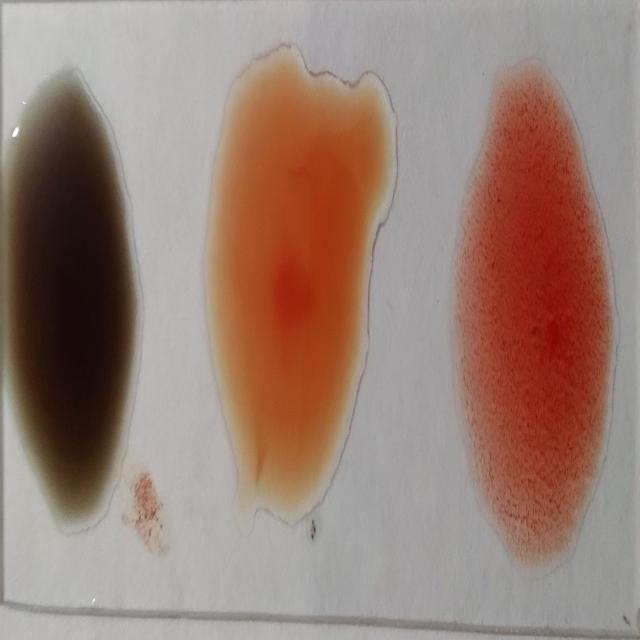D: (452, 66, 615, 558)
